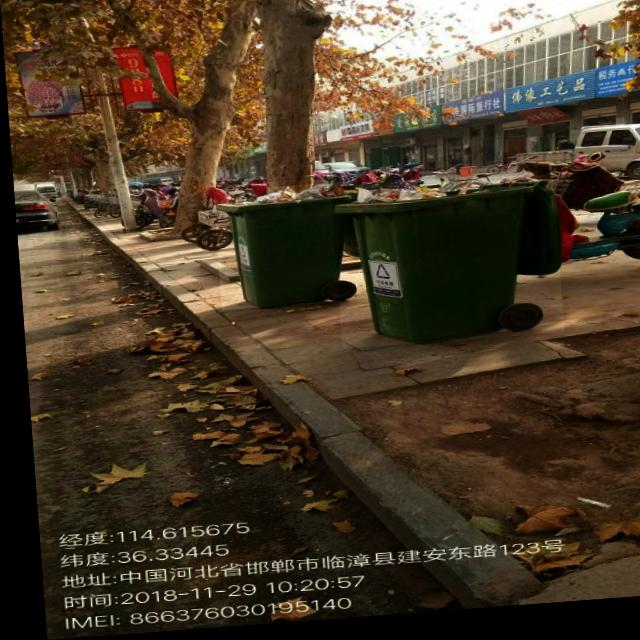overflow: (327, 179, 559, 354), (210, 186, 355, 314)
